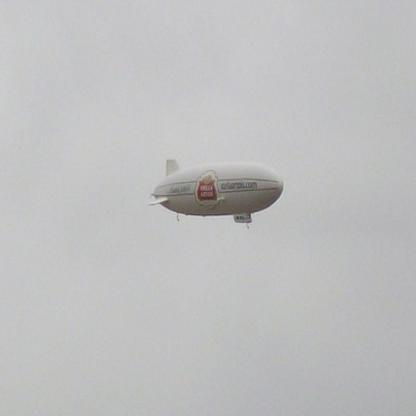Airship: (142, 151, 289, 234)
